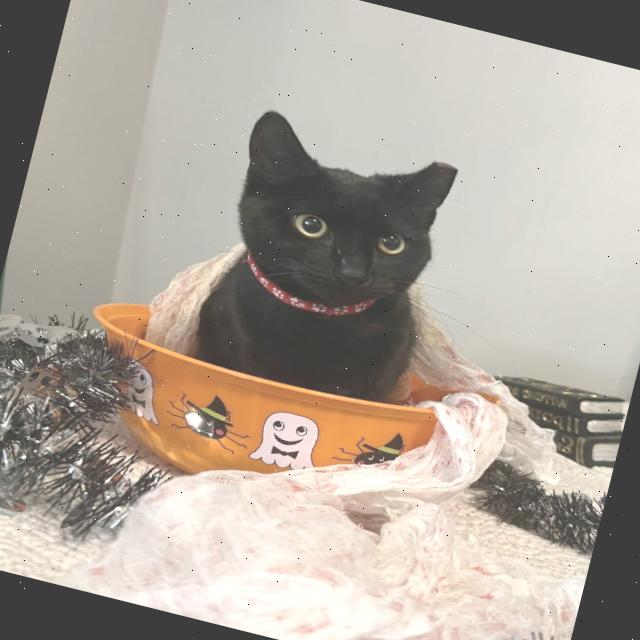bombay_cat: (203, 100, 466, 337)
